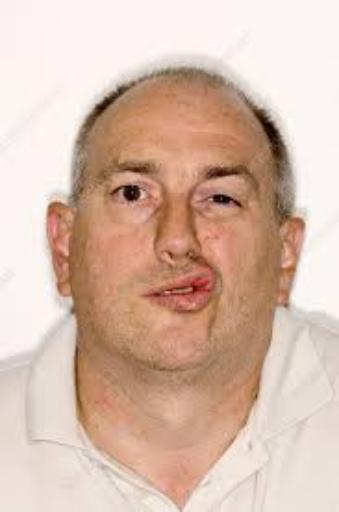left_eye: (200, 191, 244, 214)
left_lip_corner: (205, 283, 221, 303)
right_eye: (107, 181, 158, 211)
right_lip_corner: (139, 288, 159, 309)
